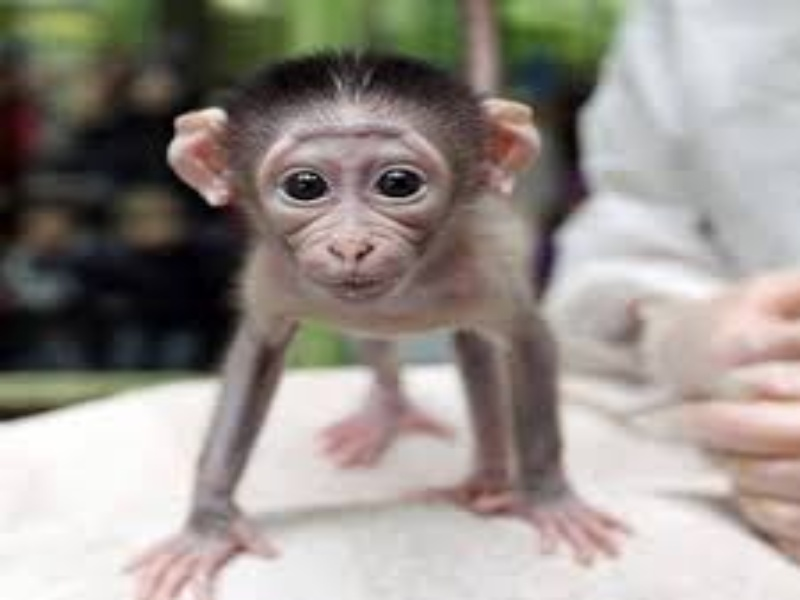monkey: (73, 58, 732, 600)
